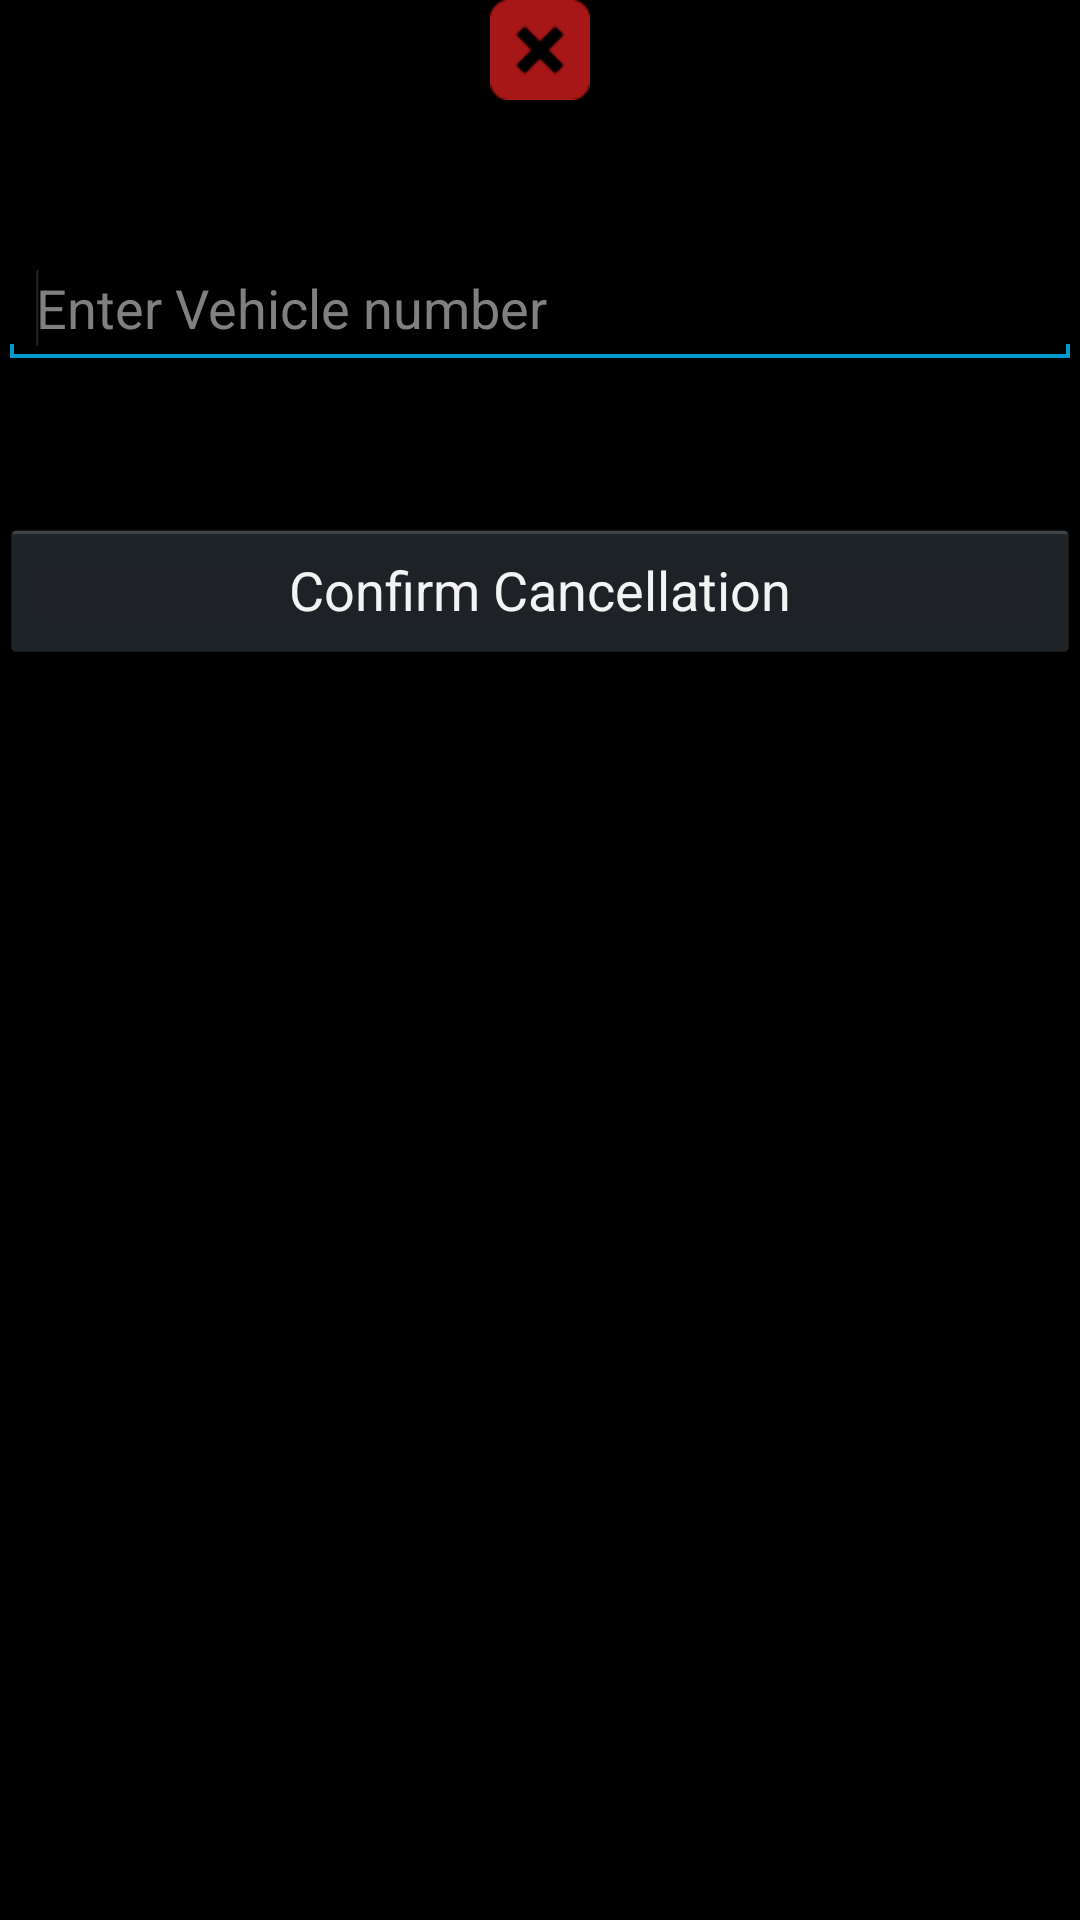

Named icons in this screenshot (1080px×1920px) and their centers, (x=x, y=y):
cancelbooking: (x=540, y=50)
